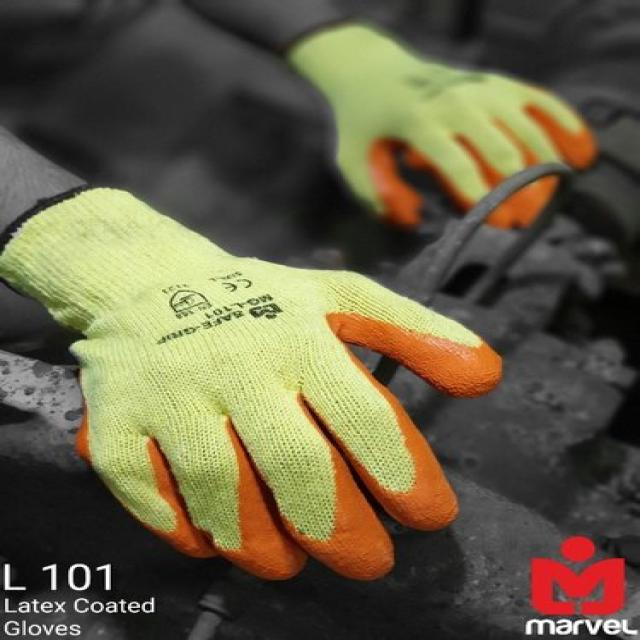gloves: (0, 185, 507, 582), (290, 21, 596, 226)
